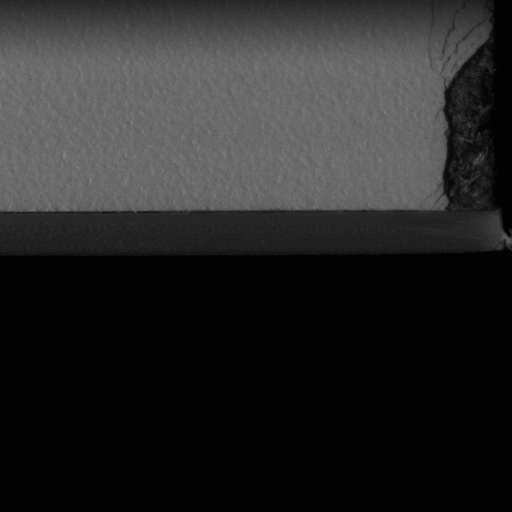bengque: (441, 37, 503, 214)
